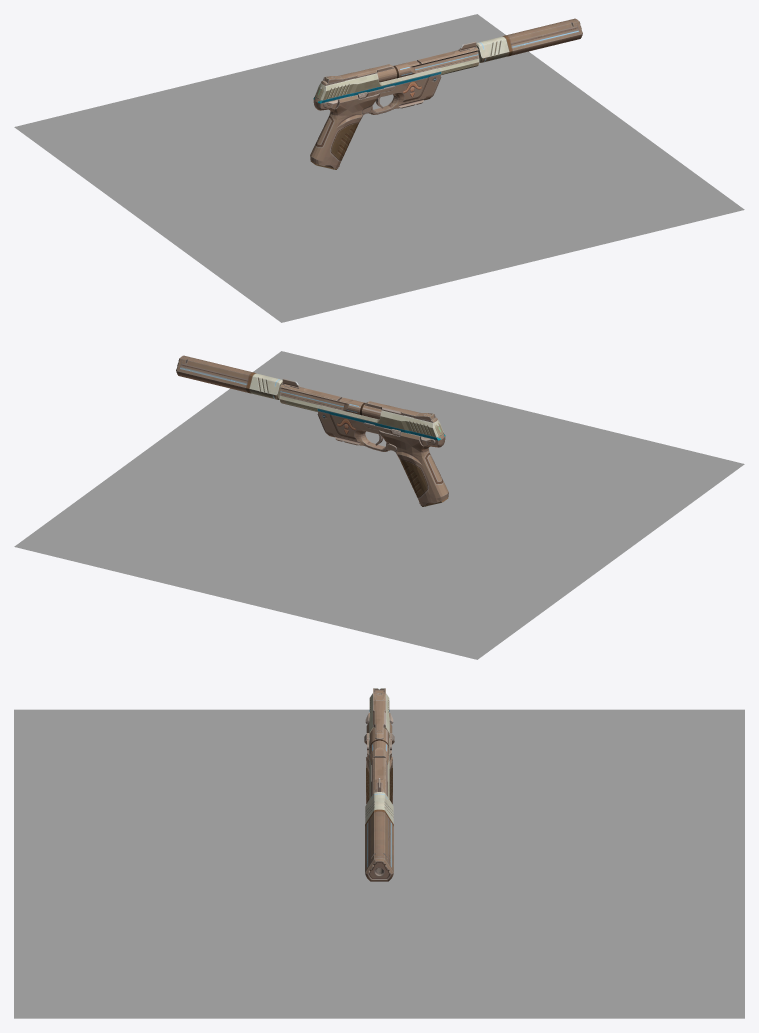
File: valorant_ghost.glb
3 views of the same model, one above another, from view 1: azimuth 30°, elevation 25°; view 2: azimuth 150°, elevation 25°; view 3: azimuth 270°, elevation 25° (orthographic). The views are drawn at different scales.
Parts seen in each view (by area): view 1: Object_11, Object_9; view 2: Object_11, Object_9; view 3: Object_11, Object_9.
Boxes of the visible parts, x1,y1,x2,y2 form: Object_11: (14,14,744,322); Object_9: (310,18,582,169); Object_11: (14,351,744,659); Object_9: (176,355,448,506); Object_11: (14,709,744,1018); Object_9: (364,688,394,881).
Bounding box in the file's own units: 10 × 2.13 × 10.
4 materials, 2 textured.
